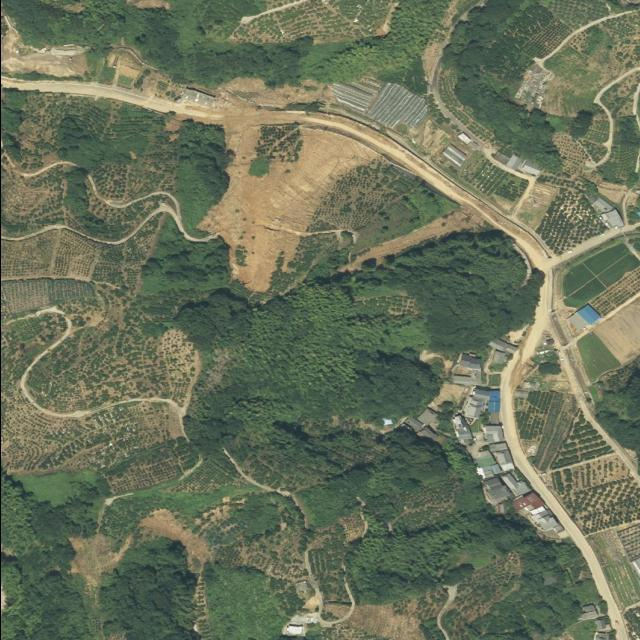landslide: (198, 122, 382, 292)
